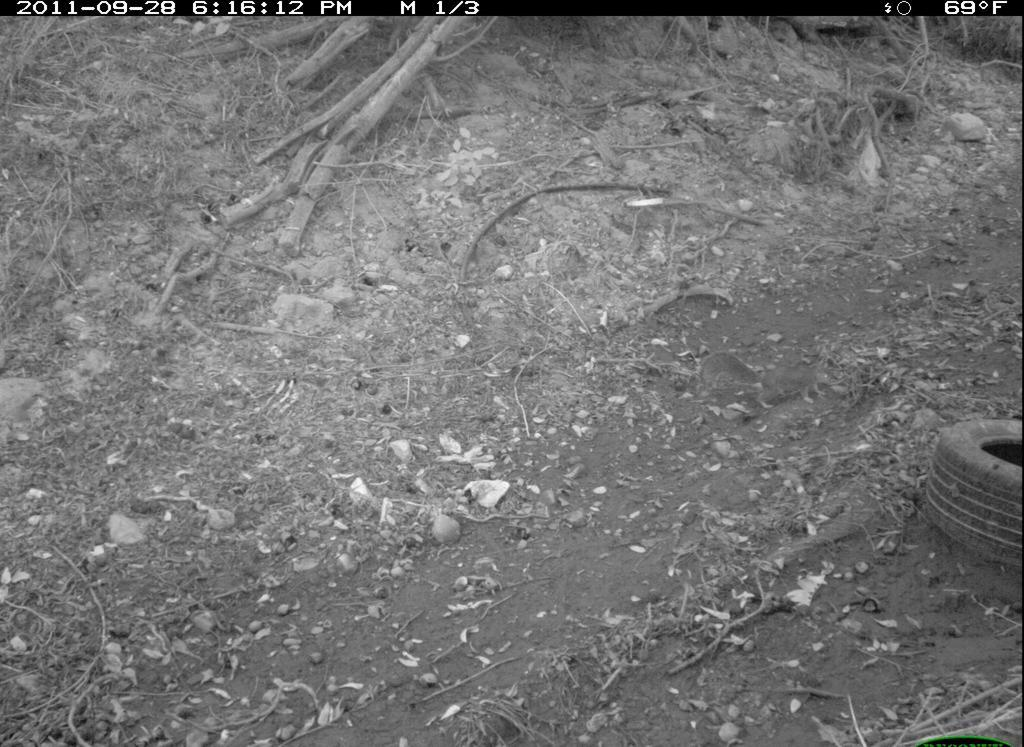squirrel: (692, 347, 841, 413)
